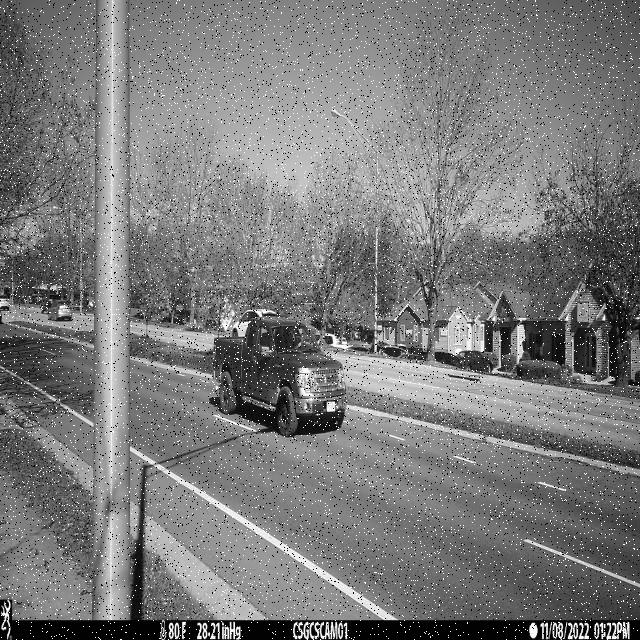Pickup: (212, 316, 349, 437)
